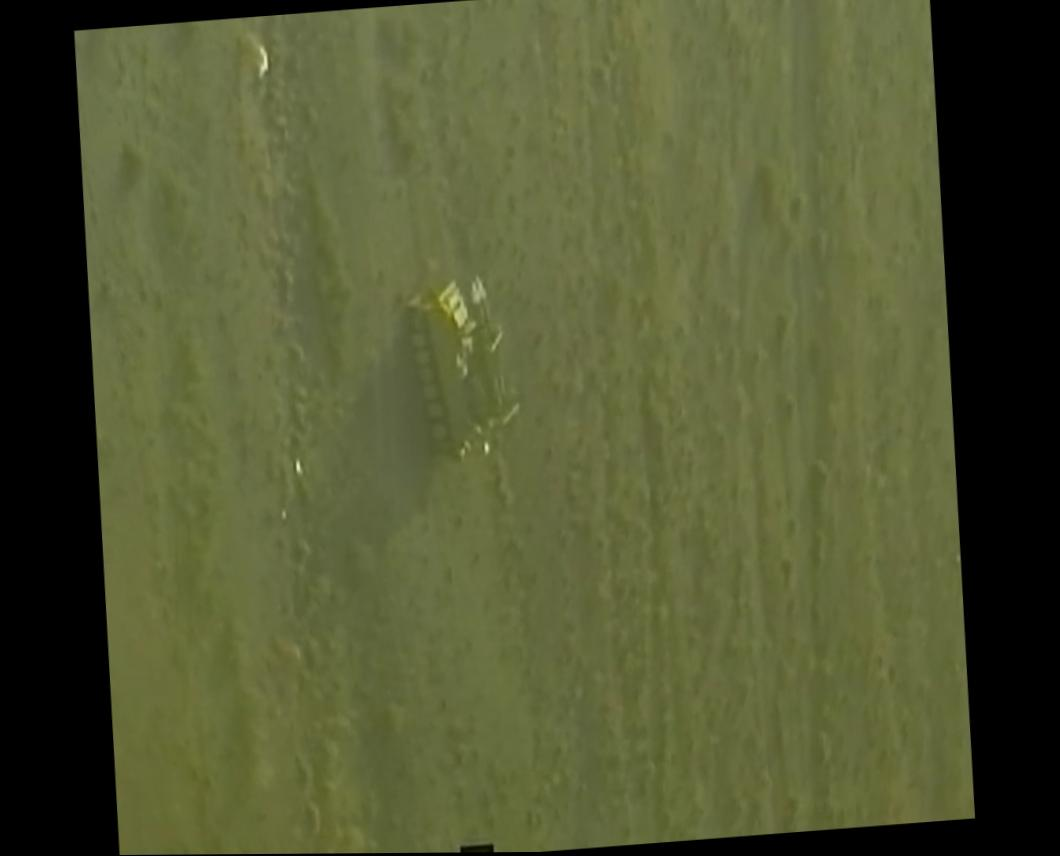armored_car: (399, 272, 523, 466)
